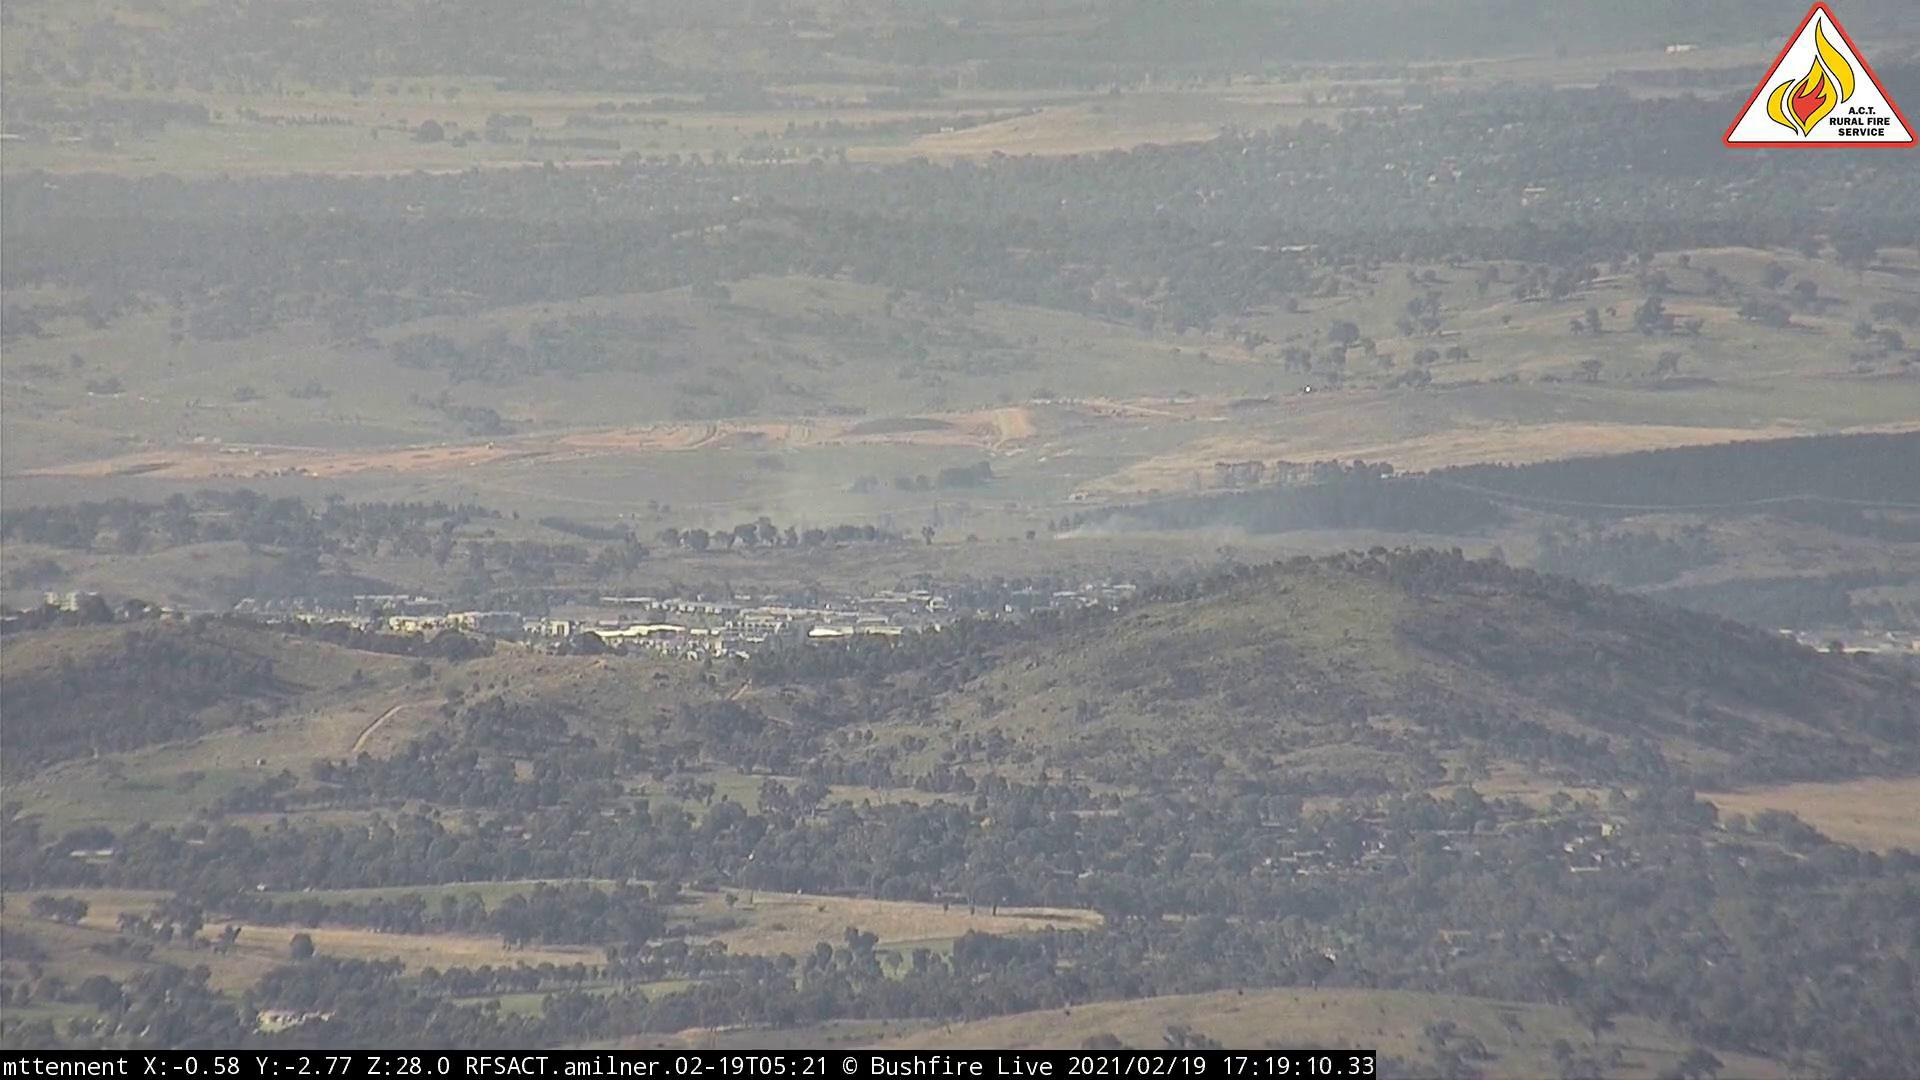Smoke: (682, 390, 1015, 556), (1056, 497, 1174, 546)
